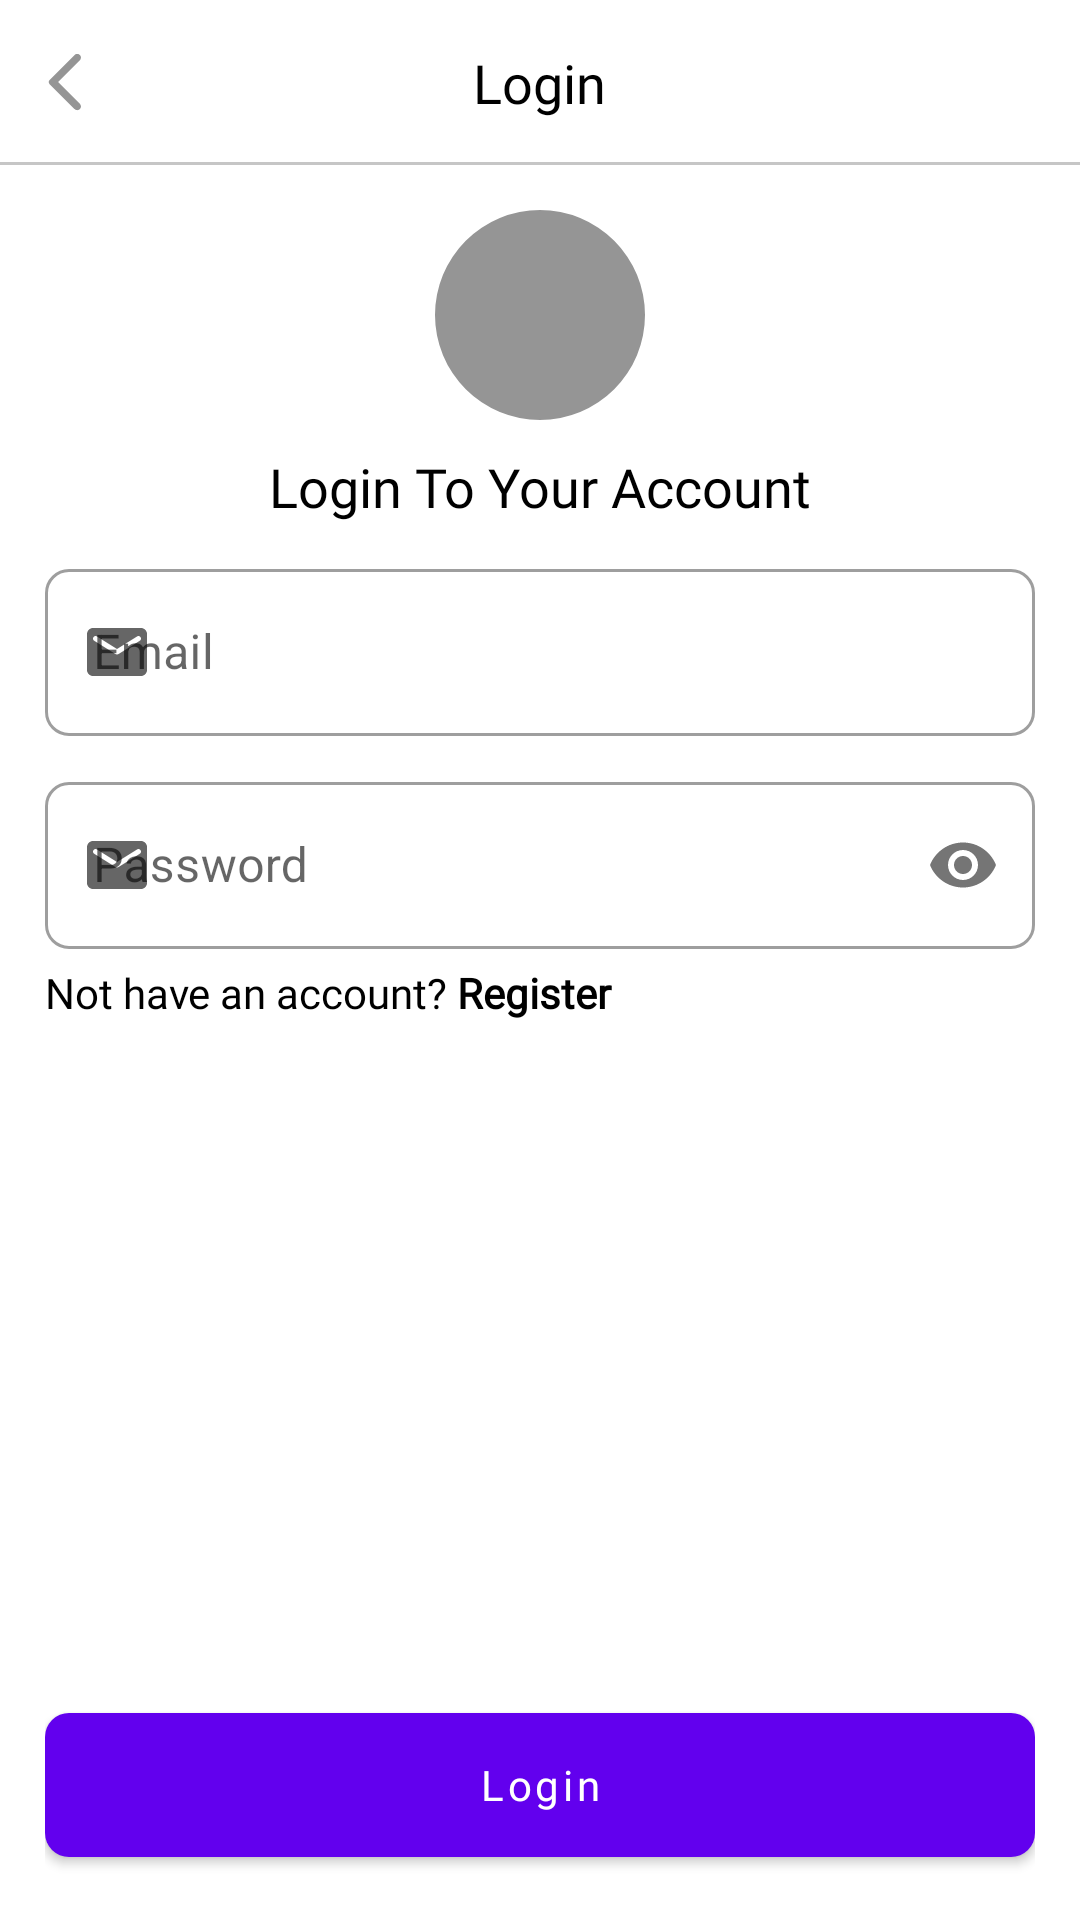

Icon bounding boxes for this 1080px×1920px phone screenshot, format (x1=x1, y1=y1, x2=x2, y2=y2):
back: (x1=49, y1=54, x2=81, y2=110)
